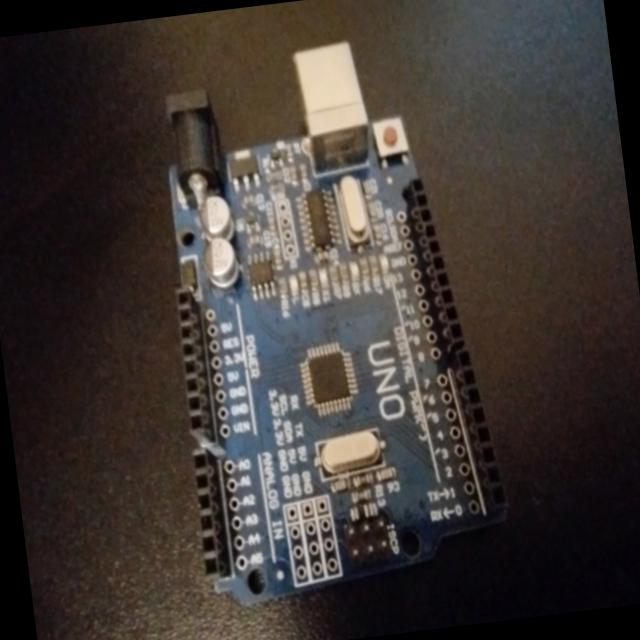arduino: (152, 58, 530, 628)
